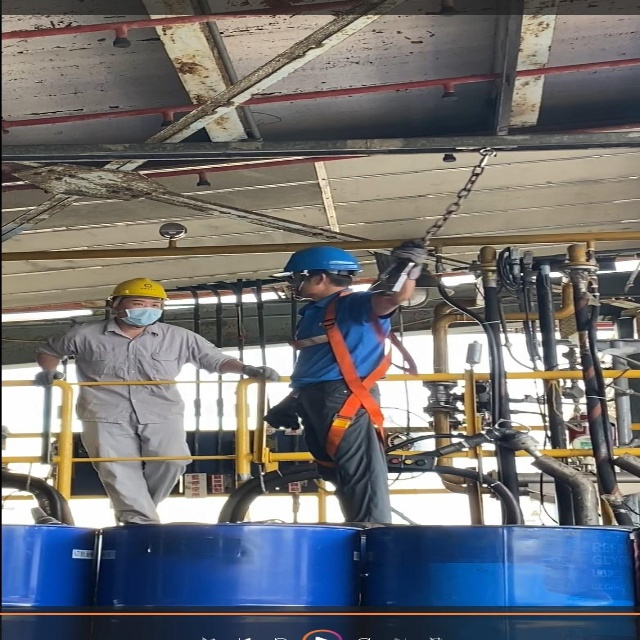Arnes_seguridad: (311, 292, 395, 467)
